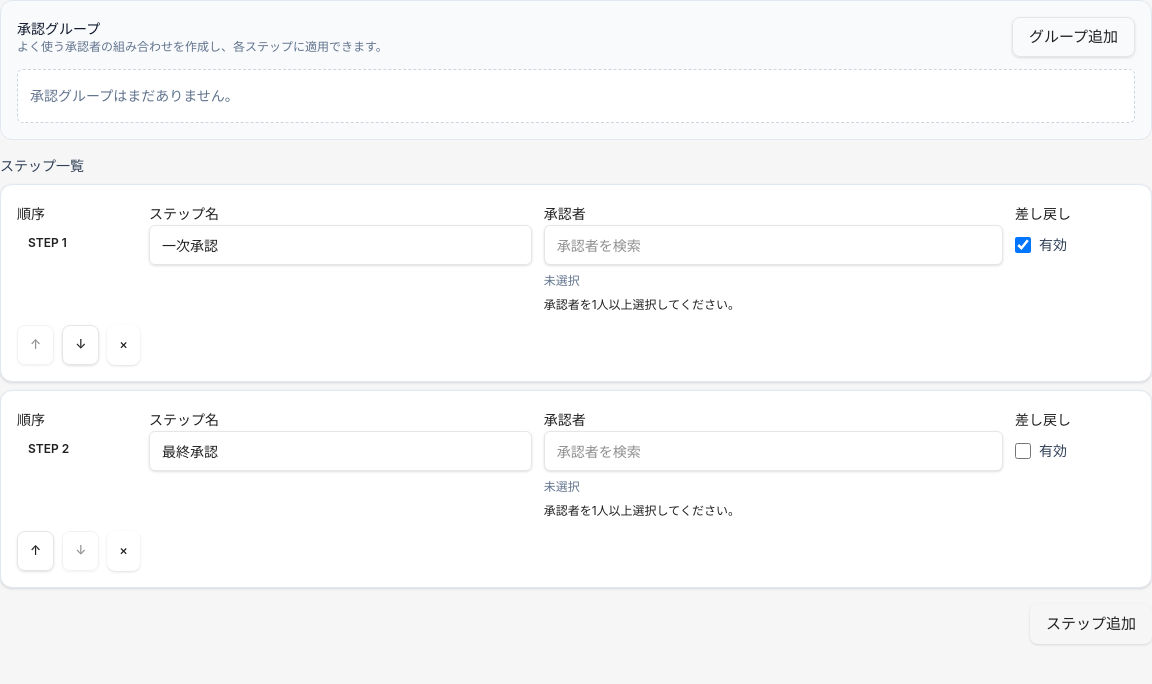
Test case: ApprovalStepsBuilder › adds/removes steps and selects assignees through search
Click the button "ステップ追加" at (1091,624), box 1030,604 -> 1151,644
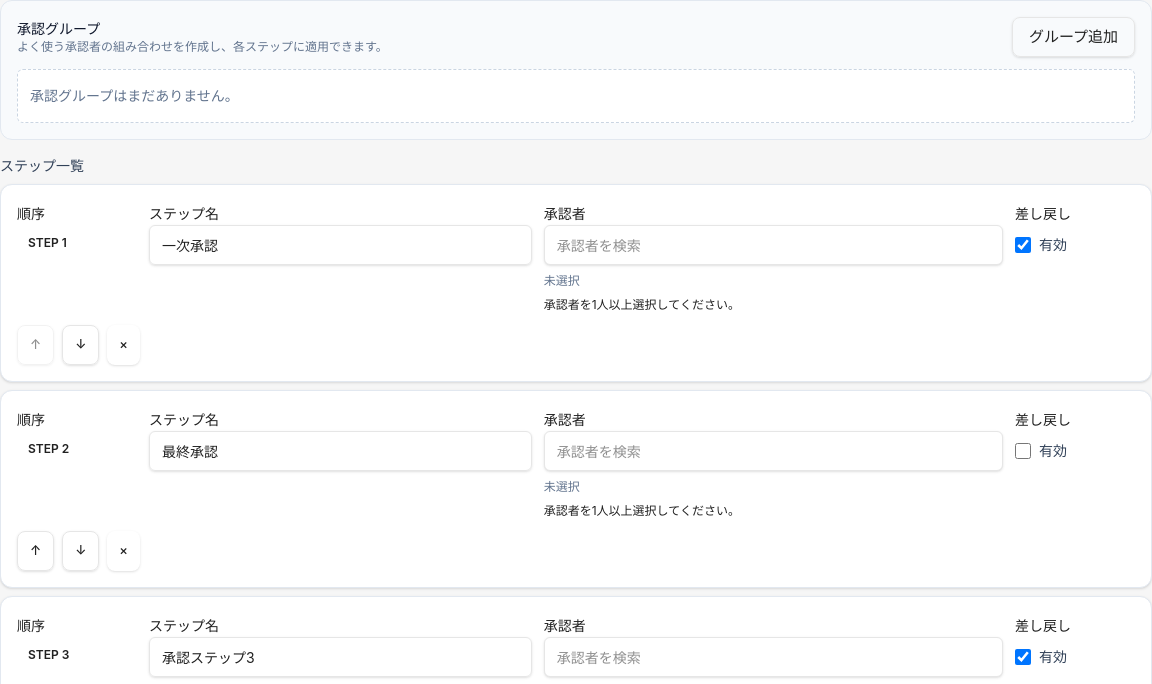
Check: the 3rd field showing "承認ステップ3" is shown, box 149,637 -> 532,677
Type "田中" into the 1st field with placeholder "承認者を検索" at (773,245), box 544,225 -> 1003,265
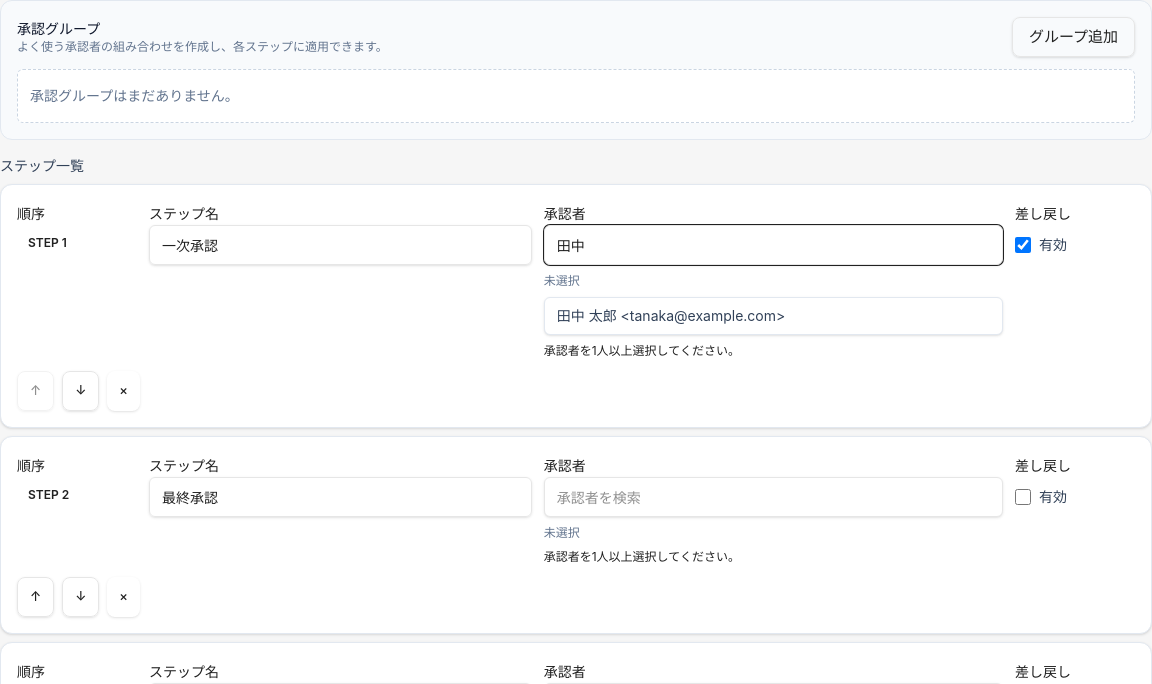
Click the button "田中 太郎 <tanaka@example.com>" at (773,316), box 545,298 -> 1002,334
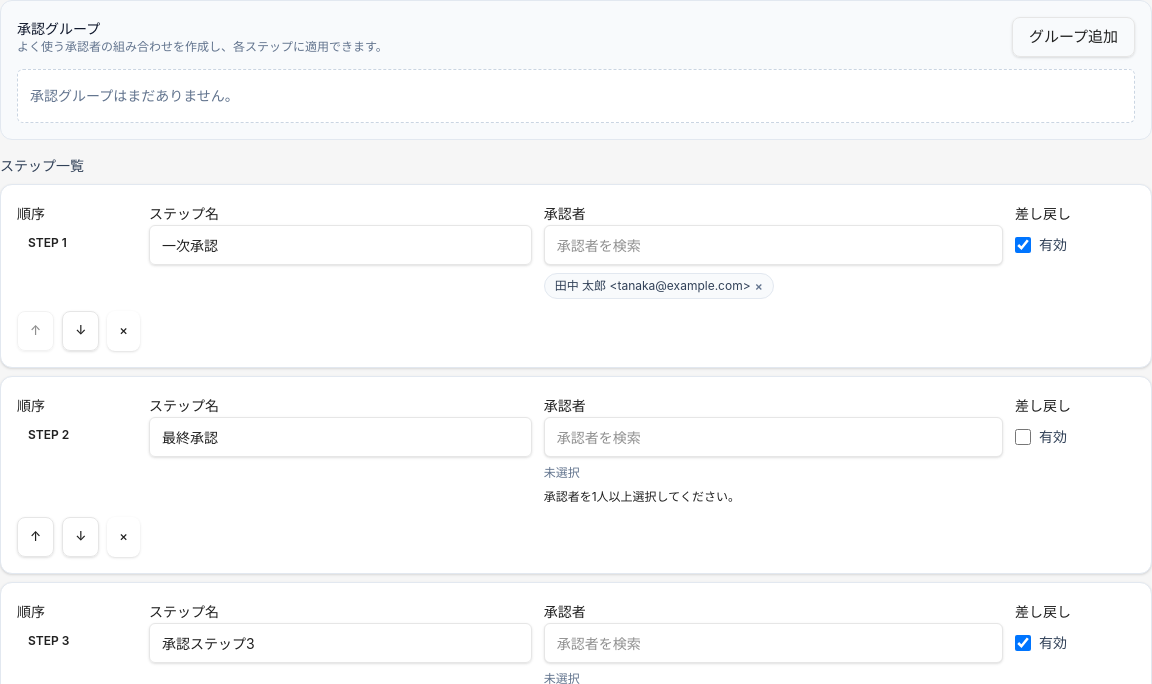
Check: the text "田中 太郎 <tanaka@example.com>" is shown, box 555,278 -> 751,293
Check: the button named "田中 太郎 <tanaka@example.com>を外す" is shown
Click the button named "田中 太郎 <tanaka@example.com>を外す" at (759,286), box 755,278 -> 763,294
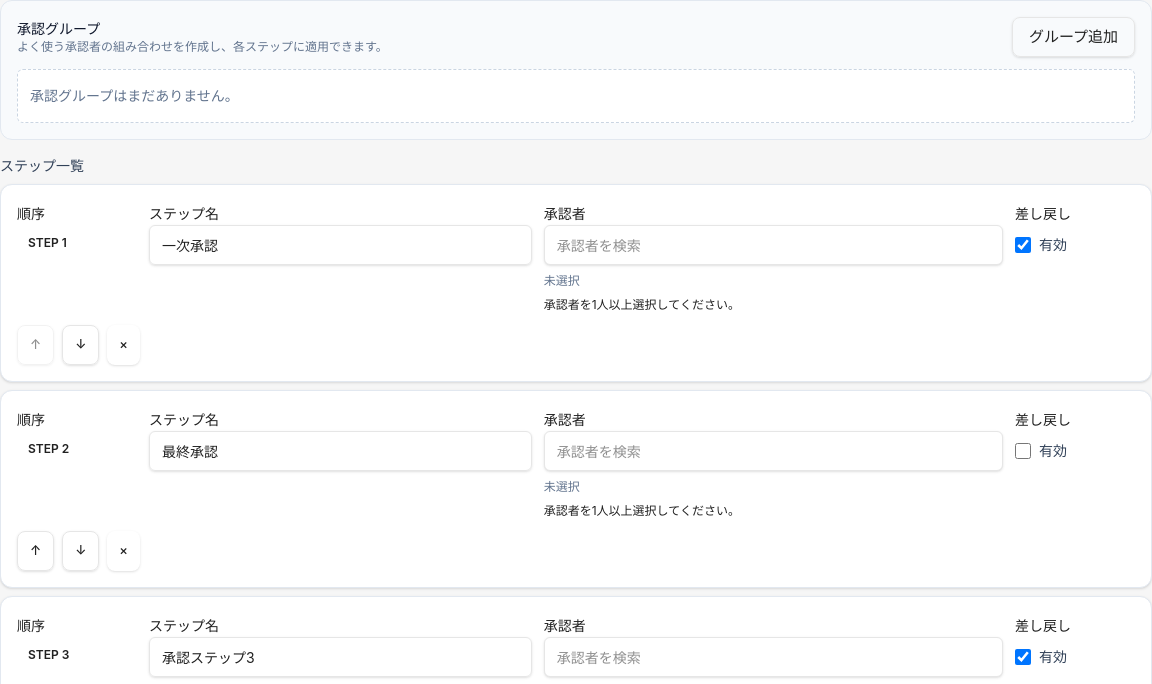
Check: the text "田中 太郎 <tanaka@example.com>" is gone
